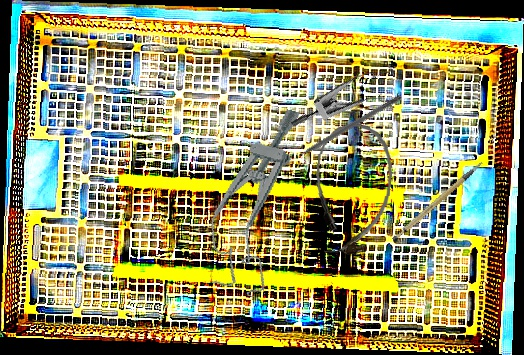Cannula: (308, 120, 397, 259)
Pusher: (283, 92, 403, 167)
Scalpel Handle: (383, 160, 494, 245)
Speculum: (194, 97, 314, 300), (288, 47, 412, 165)
